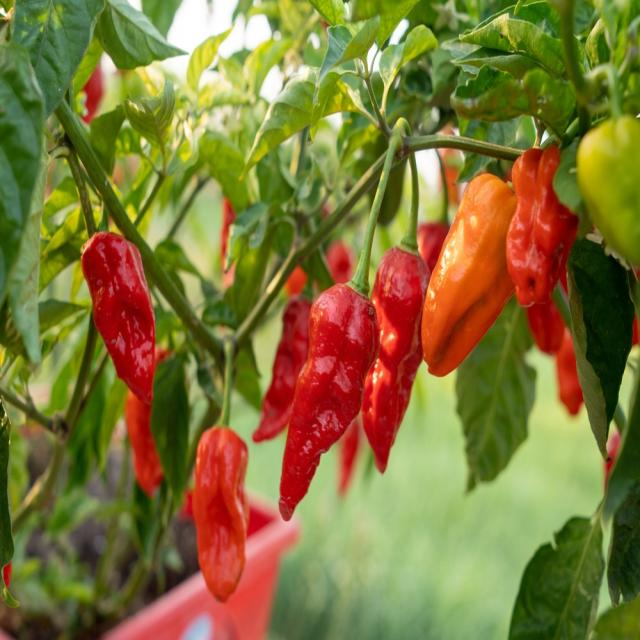Ripe: (280, 283, 380, 519), (421, 174, 516, 377), (361, 247, 430, 472), (81, 231, 156, 404), (506, 146, 578, 307), (192, 427, 249, 602), (252, 296, 311, 442)
Unripe: (576, 114, 640, 265)
